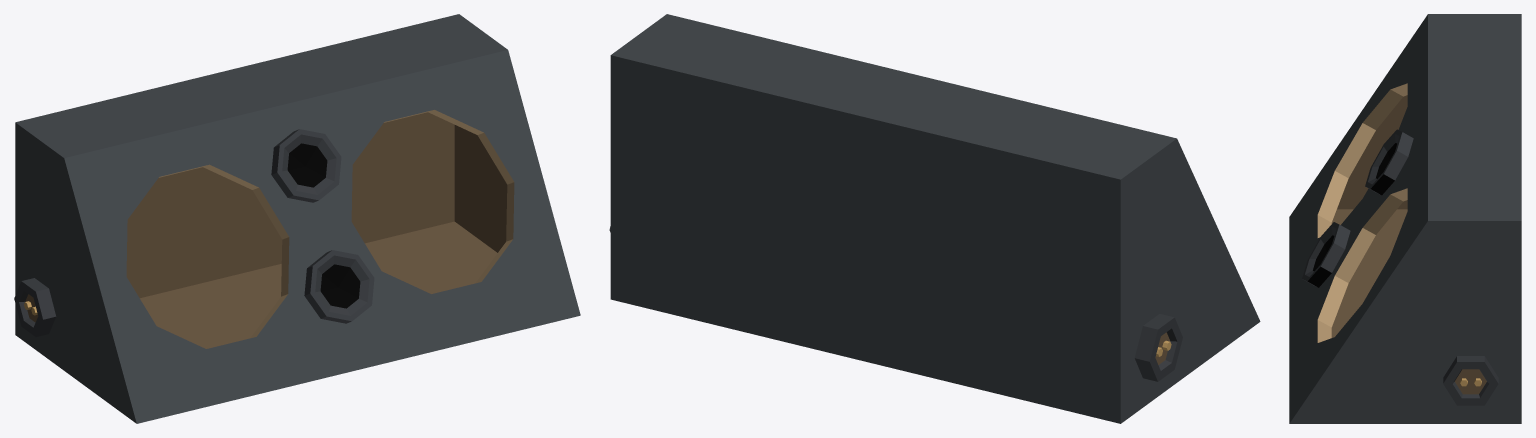
Rendered from SM_Prop_SubBox_DoubleSlanted_01.fbx.
3 renders of one model, left to right at view 1: azimuth 30°, elevation 25°; view 2: azimuth 150°, elevation 25°; view 3: azimuth 270°, elevation 25°, orthographic. The views are drawn at different scales.
Parts seen in each view (by area): view 1: SM_Prop_SubBox_DoubleSlanted_01; view 2: SM_Prop_SubBox_DoubleSlanted_01; view 3: SM_Prop_SubBox_DoubleSlanted_01.
Part boxes in pixels (x1,y1,x2,y2): SM_Prop_SubBox_DoubleSlanted_01: (14, 14, 580, 423); SM_Prop_SubBox_DoubleSlanted_01: (609, 14, 1260, 423); SM_Prop_SubBox_DoubleSlanted_01: (1289, 14, 1521, 423).
Bounding box in the file's own units: 159 × 68.74 × 71.28.
